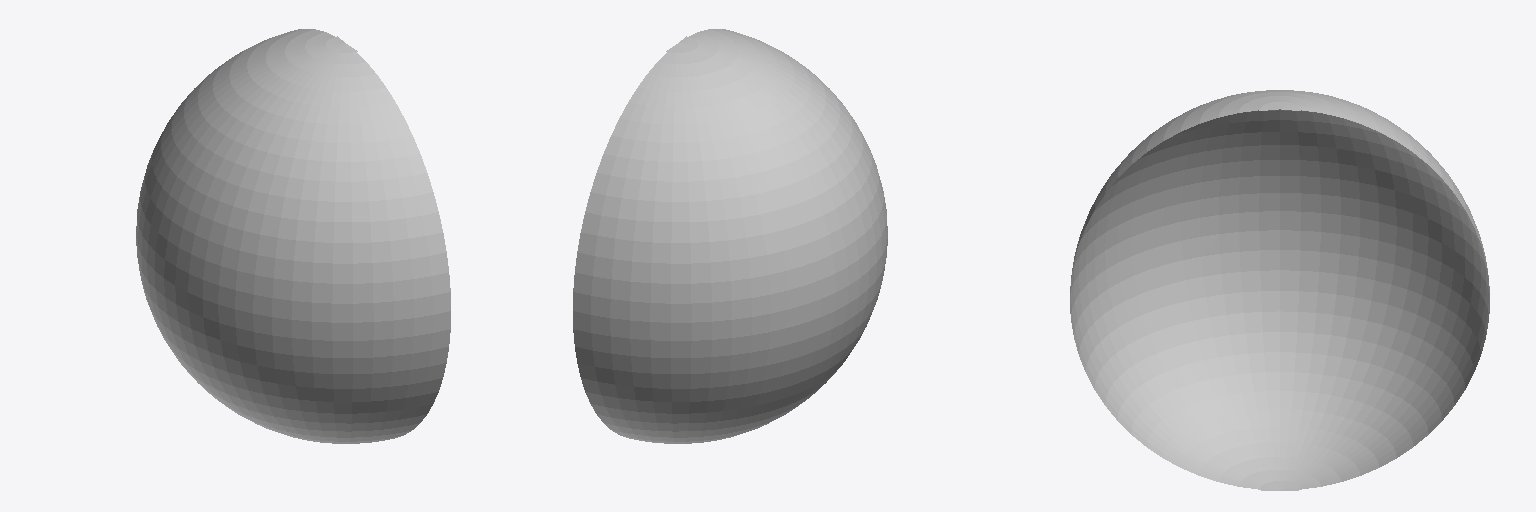
Rendered from hollow_dome2.obj.
3 views of the same model, side by side, from view 1: azimuth 30°, elevation 25°; view 2: azimuth 150°, elevation 25°; view 3: azimuth 270°, elevation 25° (orthographic).
Parts seen in each view (by area): view 1: Sphere.001; view 2: Sphere.001; view 3: Sphere.001.
Boxes of the visible parts, <box> form: Sphere.001: <box>136,29,450,443</box>; Sphere.001: <box>573,29,887,443</box>; Sphere.001: <box>1070,90,1489,490</box>.
Bounding box in the file's own units: 1.01 × 2 × 2.